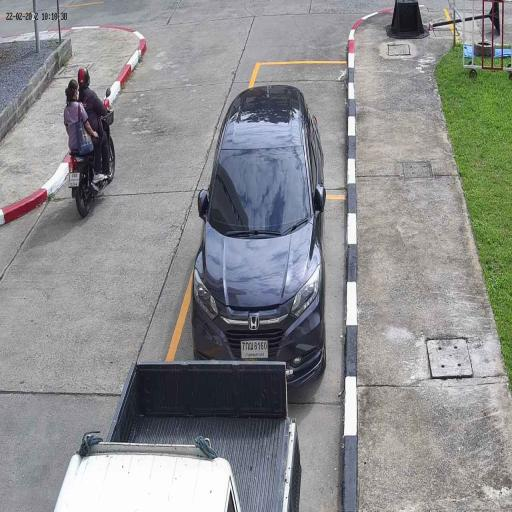car: (188, 82, 330, 382), (54, 363, 305, 511)
motorcycle: (66, 141, 116, 218)
